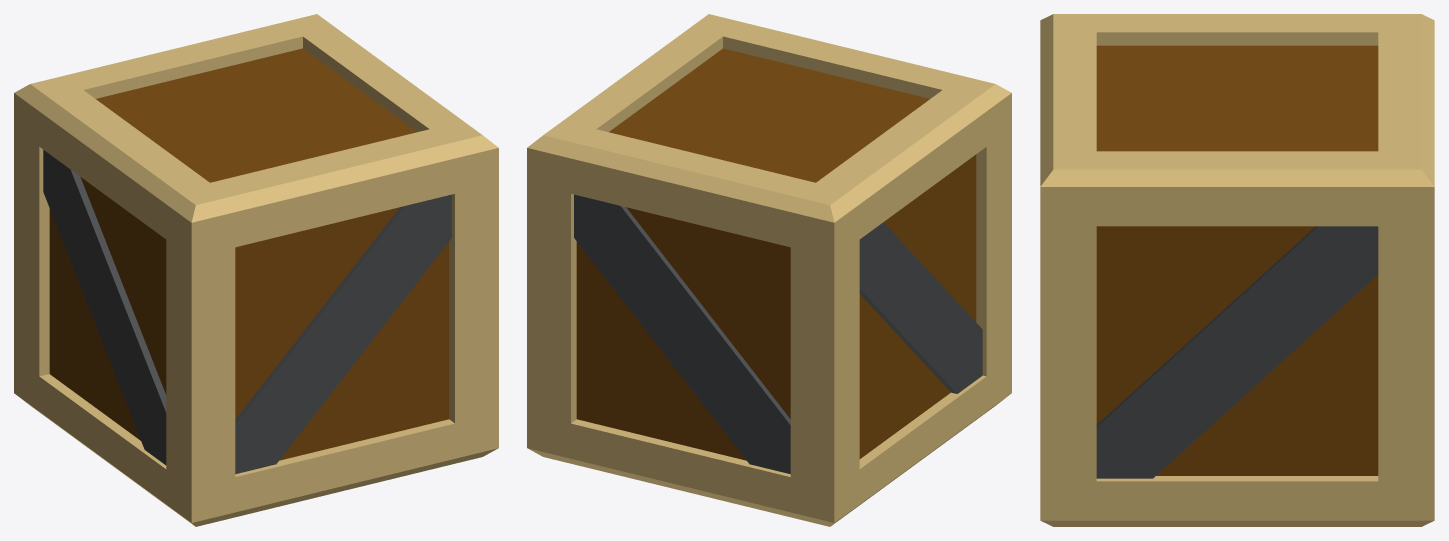
The model's file is Crate Textured.FBX.
3 views of the same model, side by side, from view 1: azimuth 30°, elevation 25°; view 2: azimuth 150°, elevation 25°; view 3: azimuth 270°, elevation 25° (orthographic). The views are drawn at different scales.
Visible parts, largest first — view 1: Crate; view 2: Crate; view 3: Crate.
Boxes of the visible parts, x1=… form: Crate: x1=14, y1=14, x2=498, y2=526; Crate: x1=527, y1=14, x2=1011, y2=526; Crate: x1=1040, y1=14, x2=1434, y2=526.
Bounding box in the file's own units: 3.43 × 3.43 × 3.43.
Materials: 7 (3 with a texture image).
